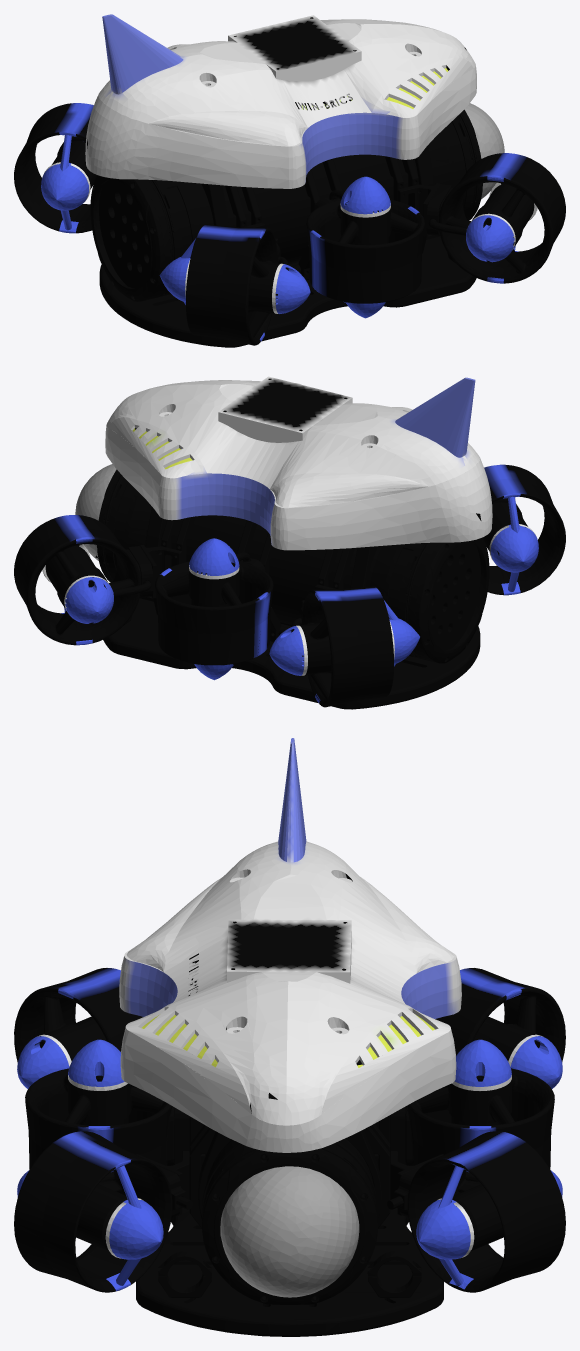
Rendered from bricsbot_stonefish_baked.obj.
3 views of the same model, one above another, from view 1: azimuth 30°, elevation 25°; view 2: azimuth 150°, elevation 25°; view 3: azimuth 270°, elevation 25° (orthographic). The views are drawn at different scales.
Parts seen in each view (by area): view 1: bot_shark; view 2: bot_shark; view 3: bot_shark.
Part boxes in pixels (bbox=[...]): bot_shark: bbox=[14, 14, 565, 347]; bot_shark: bbox=[14, 376, 565, 709]; bot_shark: bbox=[14, 738, 565, 1336].
Size of the model in its own units: 0.3824 by 0.2774 by 0.3581.
1 material, 1 textured.
